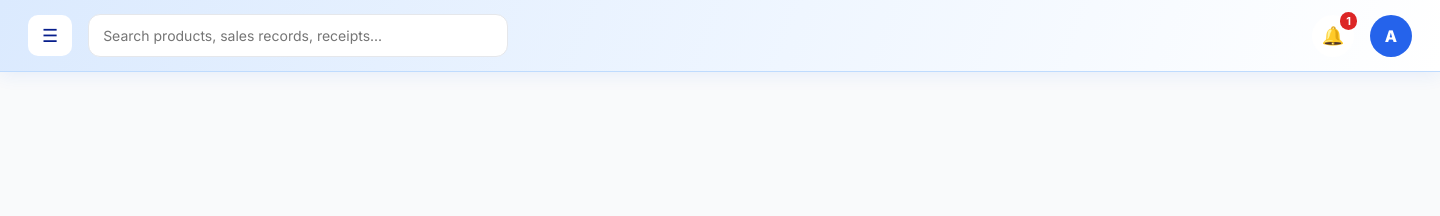
Test: TopNavbar › loads notifications and returns searchable API results
Click the button named "notifications": (1333, 36) [1312,14,1354,56]
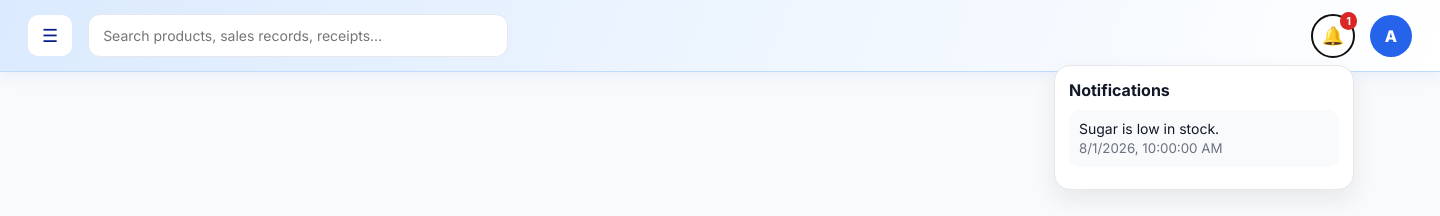
Result: the text "Sugar is low in stock." is shown at [1079,120,1219,136]
In the field labelled "Search products, sales records, receipts...": (298, 36) [88,14,508,57], type "Sugar"
Then press Enter
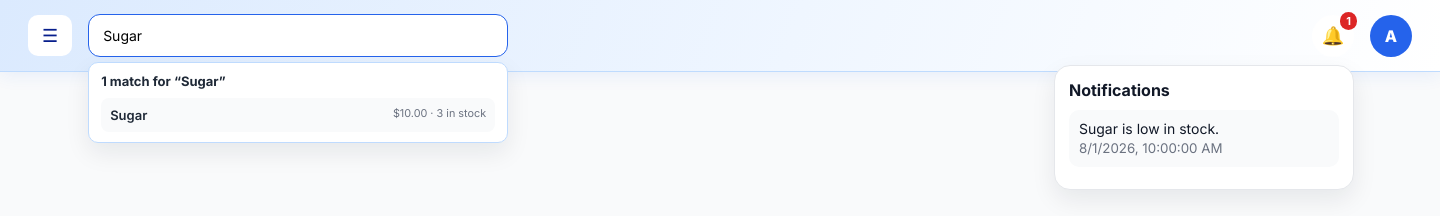
Result: the text "1 match for “Sugar”" is shown at [101,73,226,89]
